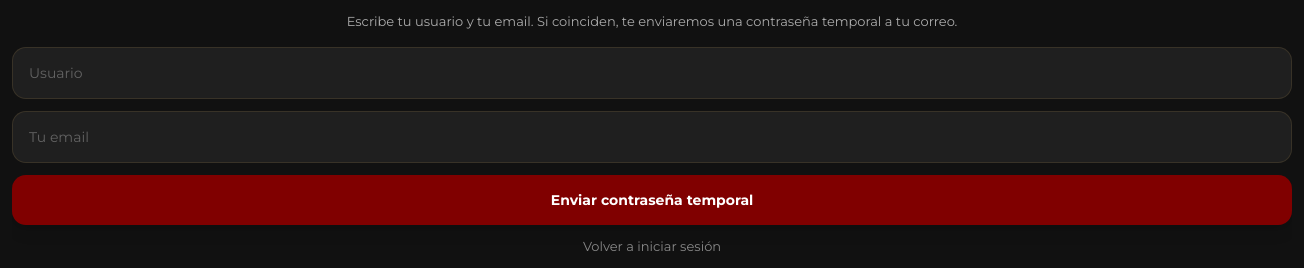
Test: ForgotPasswordForm › envia usuario+email y muestra el mensaje generico (anti-enumeracion)
Type "  nadine  " into the field with placeholder "Usuario" at (652, 73), box x1=12 y1=47 x2=1292 y2=99
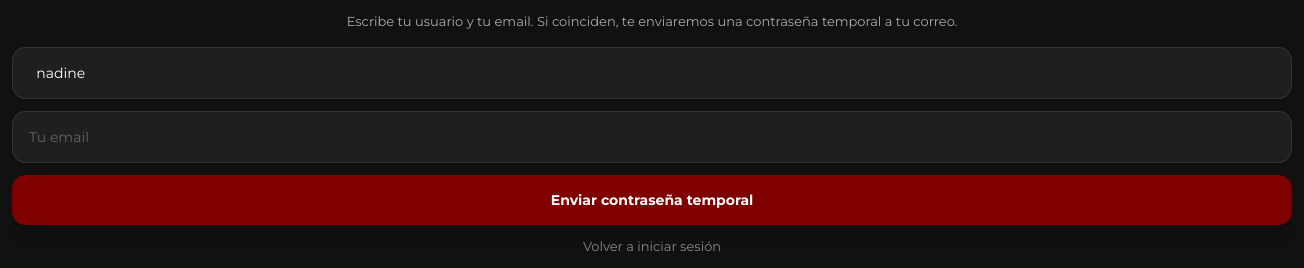
Type "nadine@correo.com" into the field with placeholder "Tu email" at (652, 137), box x1=12 y1=111 x2=1292 y2=163
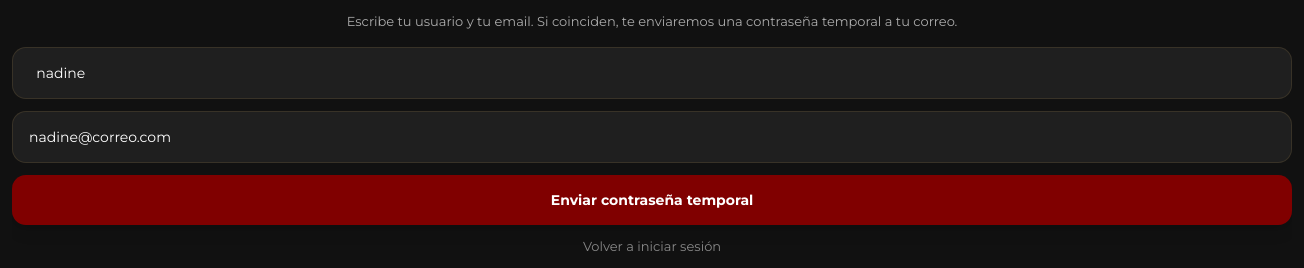
Click the button "Enviar contraseña temporal" at (652, 200), box x1=12 y1=175 x2=1292 y2=225
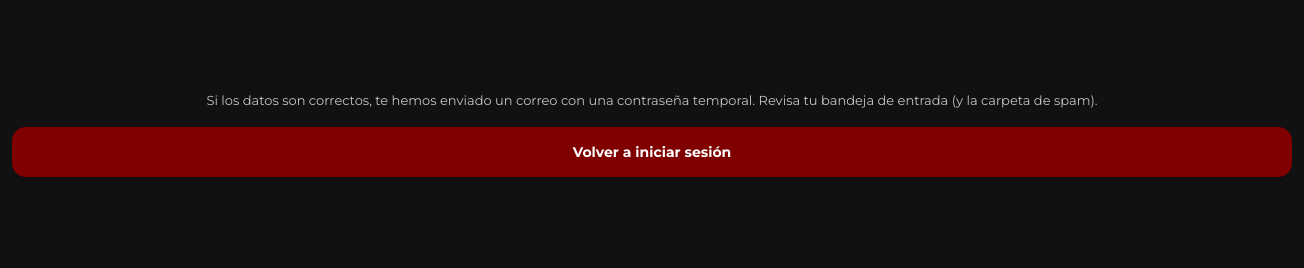
Check: the text "te hemos enviado un correo" is shown, box x1=206 y1=92 x2=1098 y2=108
